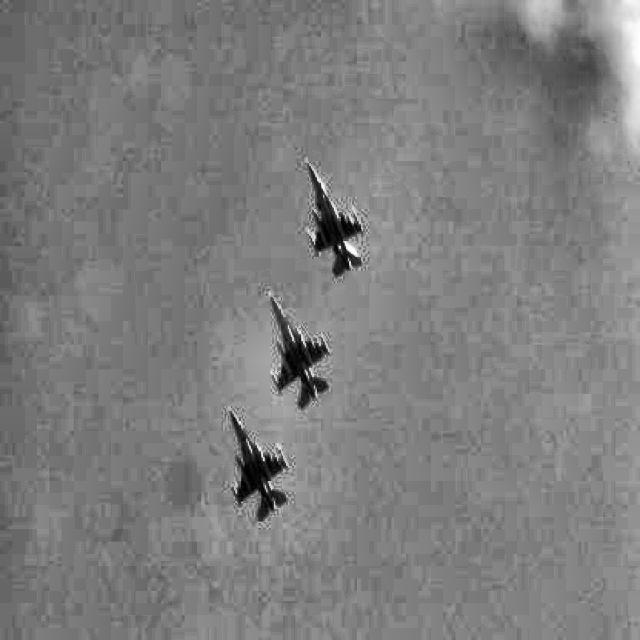F16: (268, 290, 332, 410), (306, 158, 365, 278), (228, 406, 289, 522)
